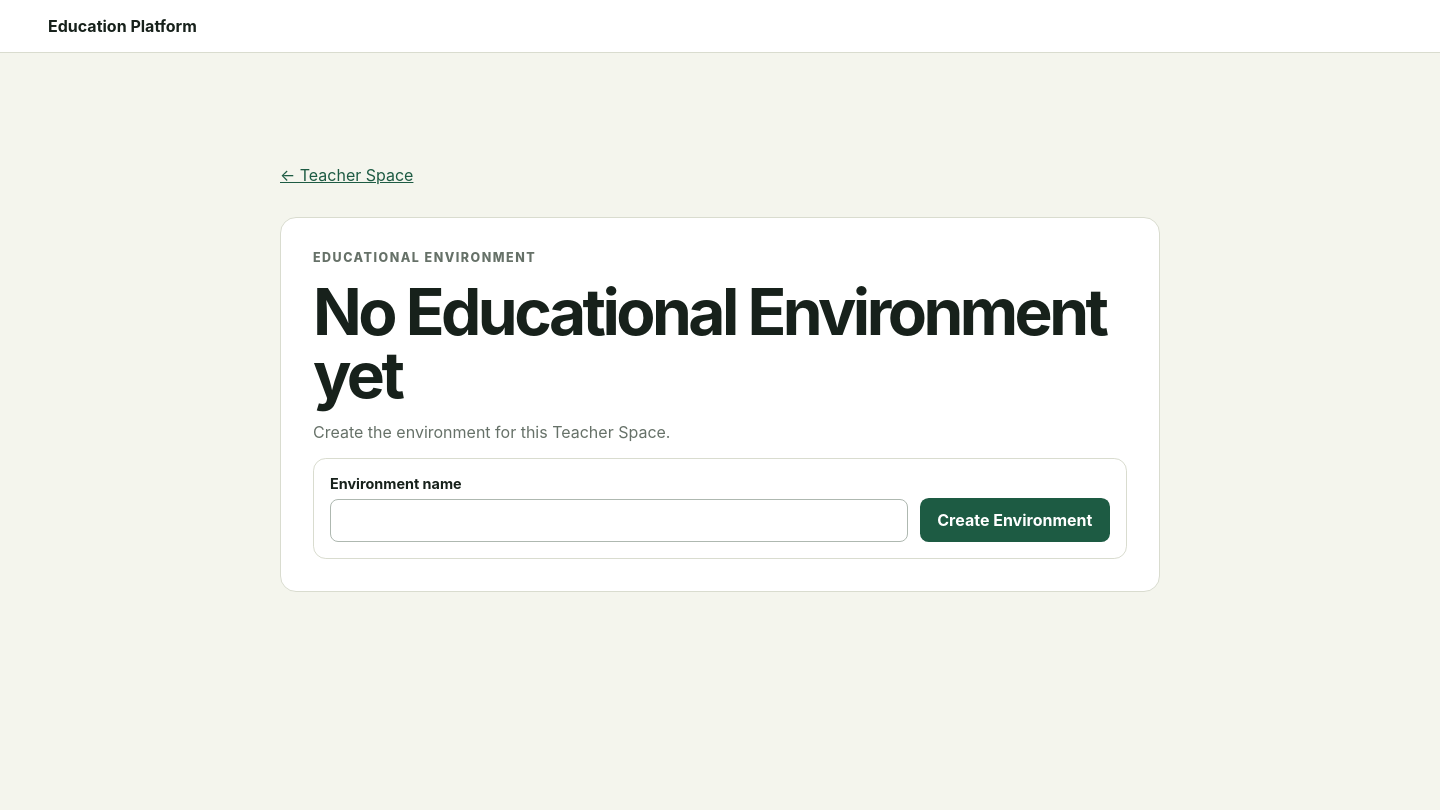
Test: Educational Environment UI › creates the singleton and updates its TanStack Query state
Type "Primary Environment" into the field labelled "Environment name". click: (619, 520)
box: x1=330 y1=499 x2=908 y2=542
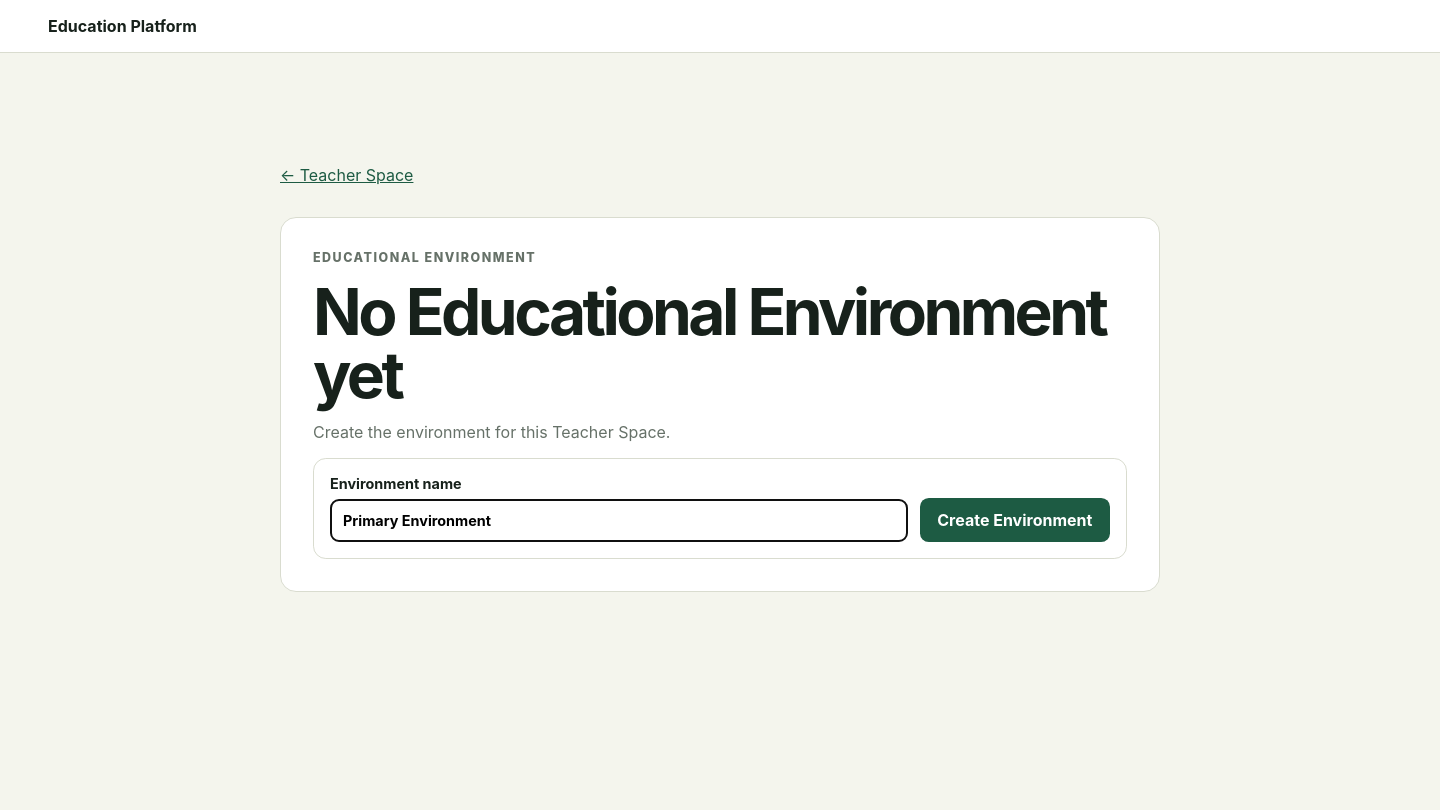
Click the button "Create Environment". click: (1015, 520)
box: x1=920 y1=498 x2=1110 y2=542
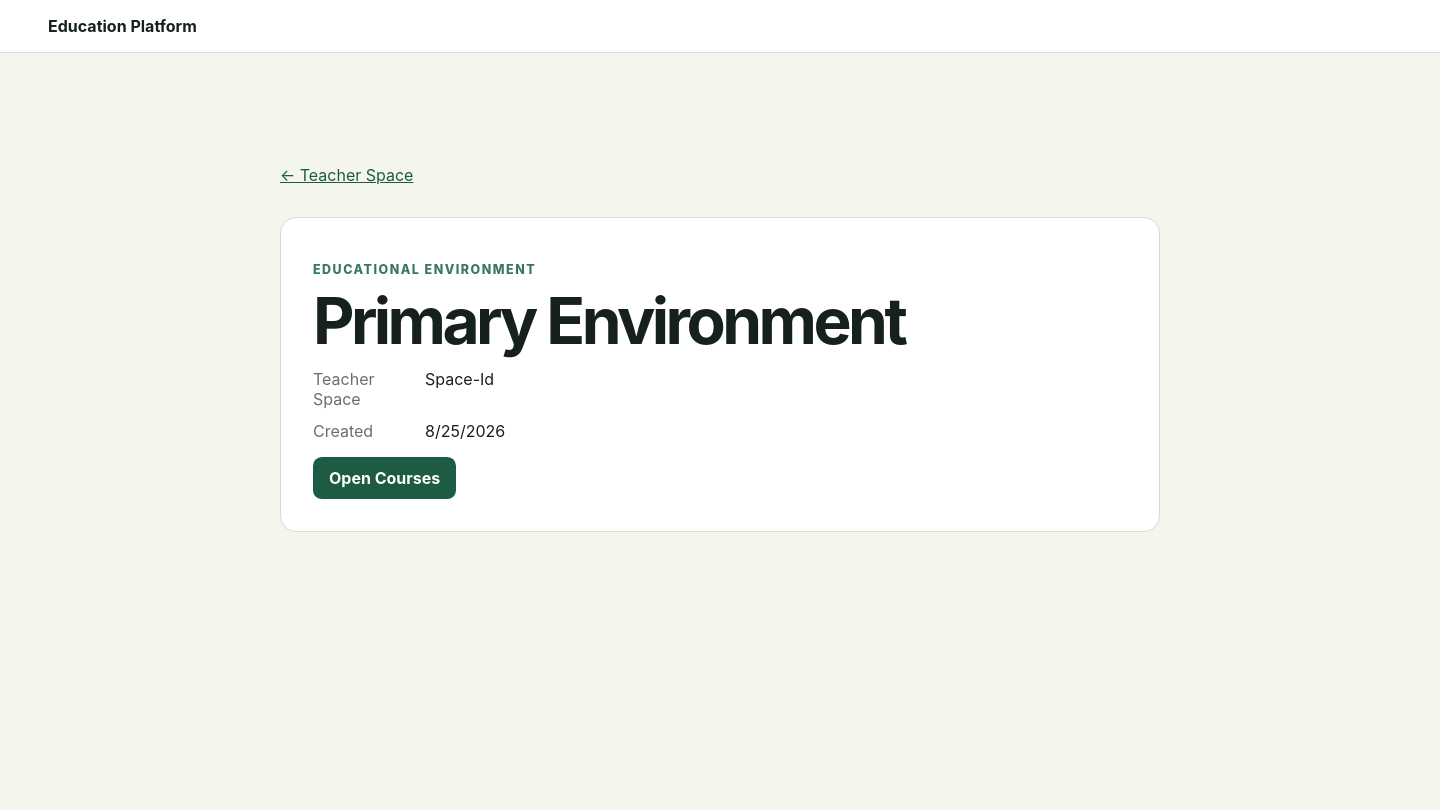
Expected: the heading "Primary Environment" is shown, x1=313 y1=282 x2=904 y2=359
Expected: the heading "No Educational Environment yet" is gone
